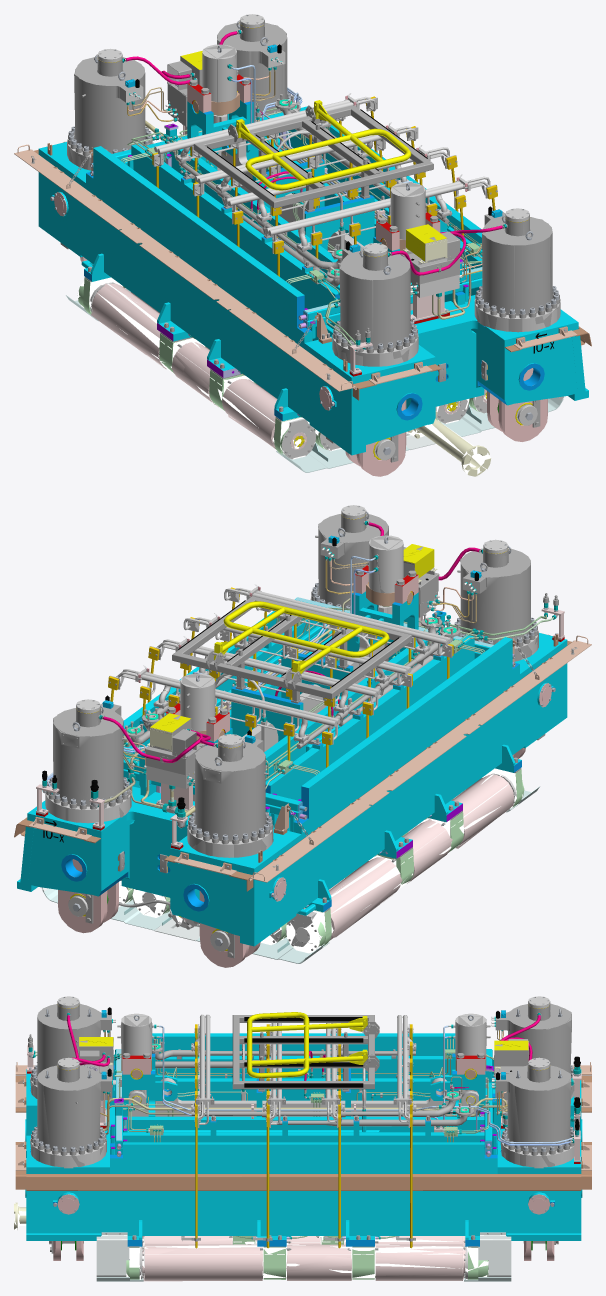
Rendered from SEGMENT_10_LOOSE_SIDE_FRAME.glb.
The picture shows the model from 3 angles, top to bottom: view 1: azimuth 30°, elevation 25°; view 2: azimuth 150°, elevation 25°; view 3: azimuth 270°, elevation 25°; orthographic projection. The views are drawn at different scales.
Visible parts, largest first — view 1: Model, PRESSURE_CYLINDER_4.001, PRESSURE_CYLINDER_1.001, ROLLSET_7, PRESSURE_CYLINDER_2.001, ROLLER_7_3, PRESSURE_CYLINDER_3.001; view 2: Model, PRESSURE_CYLINDER_3.001, PRESSURE_CYLINDER_4.001, PRESSURE_CYLINDER_2.001, ROLLSET_7, PRESSURE_CYLINDER_1.001, ROLLER_7_3; view 3: Model, PRESSURE_CYLINDER_2.001, ROLLSET_1, PRESSURE_CYLINDER_1.001, ROLLER_1_1, PRESSURE_CYLINDER_3.001, ROLLER_1_2, box.001, ROLLER_1_3, box.
Part boxes in pixels (x1=…): Model: x1=14, y1=14, x2=591, y2=476; PRESSURE_CYLINDER_4.001: x1=332, y1=244, x2=418, y2=366; PRESSURE_CYLINDER_1.001: x1=475, y1=209, x2=560, y2=332; ROLLSET_7: x1=77, y1=277, x2=315, y2=459; PRESSURE_CYLINDER_2.001: x1=217, y1=15, x2=287, y2=113; ROLLER_7_3: x1=91, y1=283, x2=166, y2=369; PRESSURE_CYLINDER_3.001: x1=67, y1=50, x2=152, y2=169; Model: x1=14, y1=505, x2=591, y2=967; PRESSURE_CYLINDER_3.001: x1=189, y1=735, x2=273, y2=857; PRESSURE_CYLINDER_4.001: x1=460, y1=541, x2=538, y2=661; PRESSURE_CYLINDER_2.001: x1=53, y1=700, x2=131, y2=820; ROLLSET_7: x1=286, y1=768, x2=522, y2=953; PRESSURE_CYLINDER_1.001: x1=318, y1=506, x2=388, y2=608; ROLLER_7_3: x1=331, y1=860, x2=402, y2=937; Model: x1=14, y1=996, x2=591, y2=1281; PRESSURE_CYLINDER_2.001: x1=500, y1=1059, x2=571, y2=1166; ROLLSET_1: x1=126, y1=1243, x2=488, y2=1279; PRESSURE_CYLINDER_1.001: x1=30, y1=1059, x2=106, y2=1166; ROLLER_1_1: x1=142, y1=1244, x2=263, y2=1281; PRESSURE_CYLINDER_3.001: x1=518, y1=997, x2=574, y2=1096; ROLLER_1_2: x1=286, y1=1244, x2=351, y2=1279; box.001: x1=494, y1=1044, x2=528, y2=1067; ROLLER_1_3: x1=375, y1=1248, x2=466, y2=1279; box: x1=79, y1=1037, x2=113, y2=1063.
Size of the model in its own units: 2.44 by 2.17 by 5.09.
